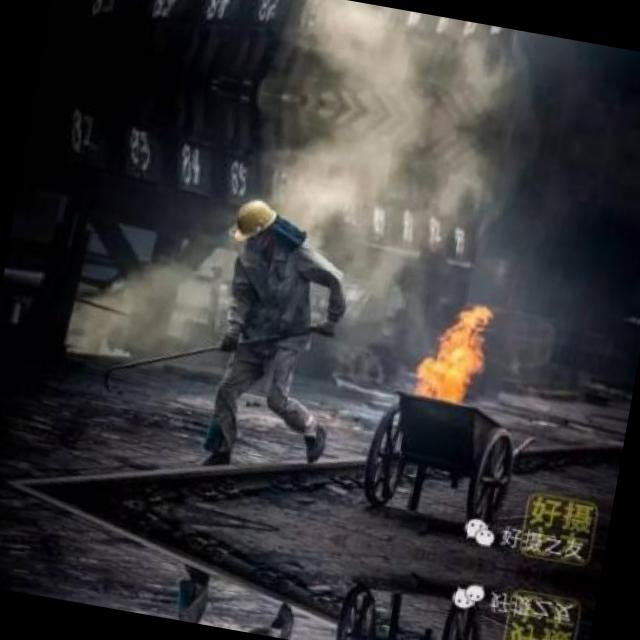helmet: (226, 189, 282, 246)
